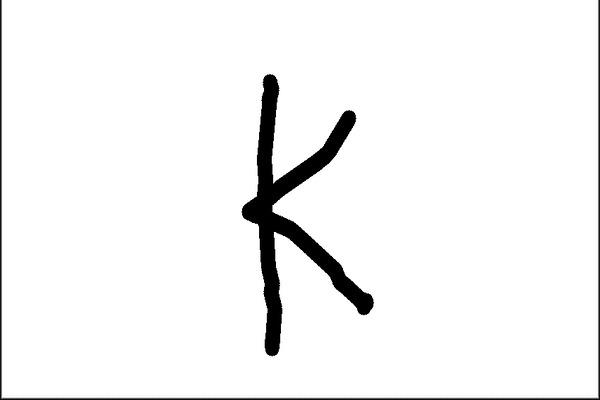K: (237, 67, 380, 361)
